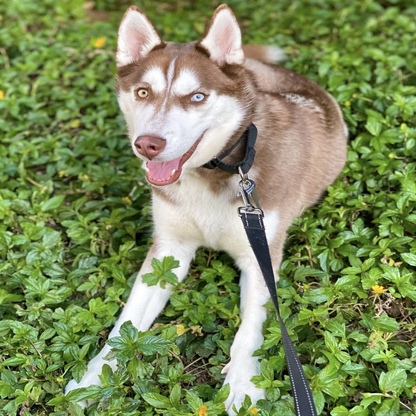husky: (63, 3, 355, 416)
